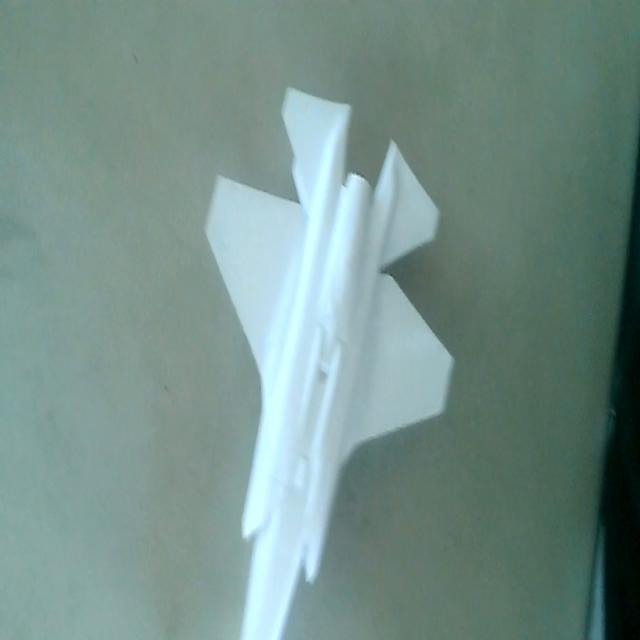Jet: (200, 84, 456, 640)
